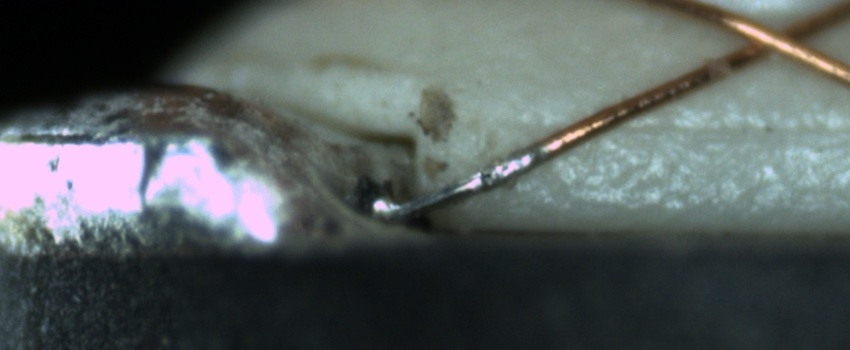CL: (712, 4, 838, 70)
DL: (513, 97, 850, 158)
TS: (378, 141, 547, 223)
TTCW: (367, 127, 591, 222)
